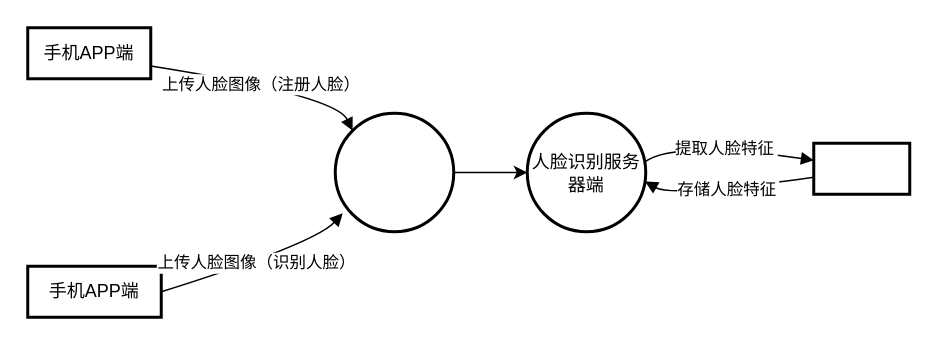
This 936x344 diagram has some shape labels left out. The shapes that lost their labels are listed below. From the top down, each one's centre as x and y in pixels, then its label:
At point (393, 171): "MBP服务器".
At point (861, 168): "数据库".
